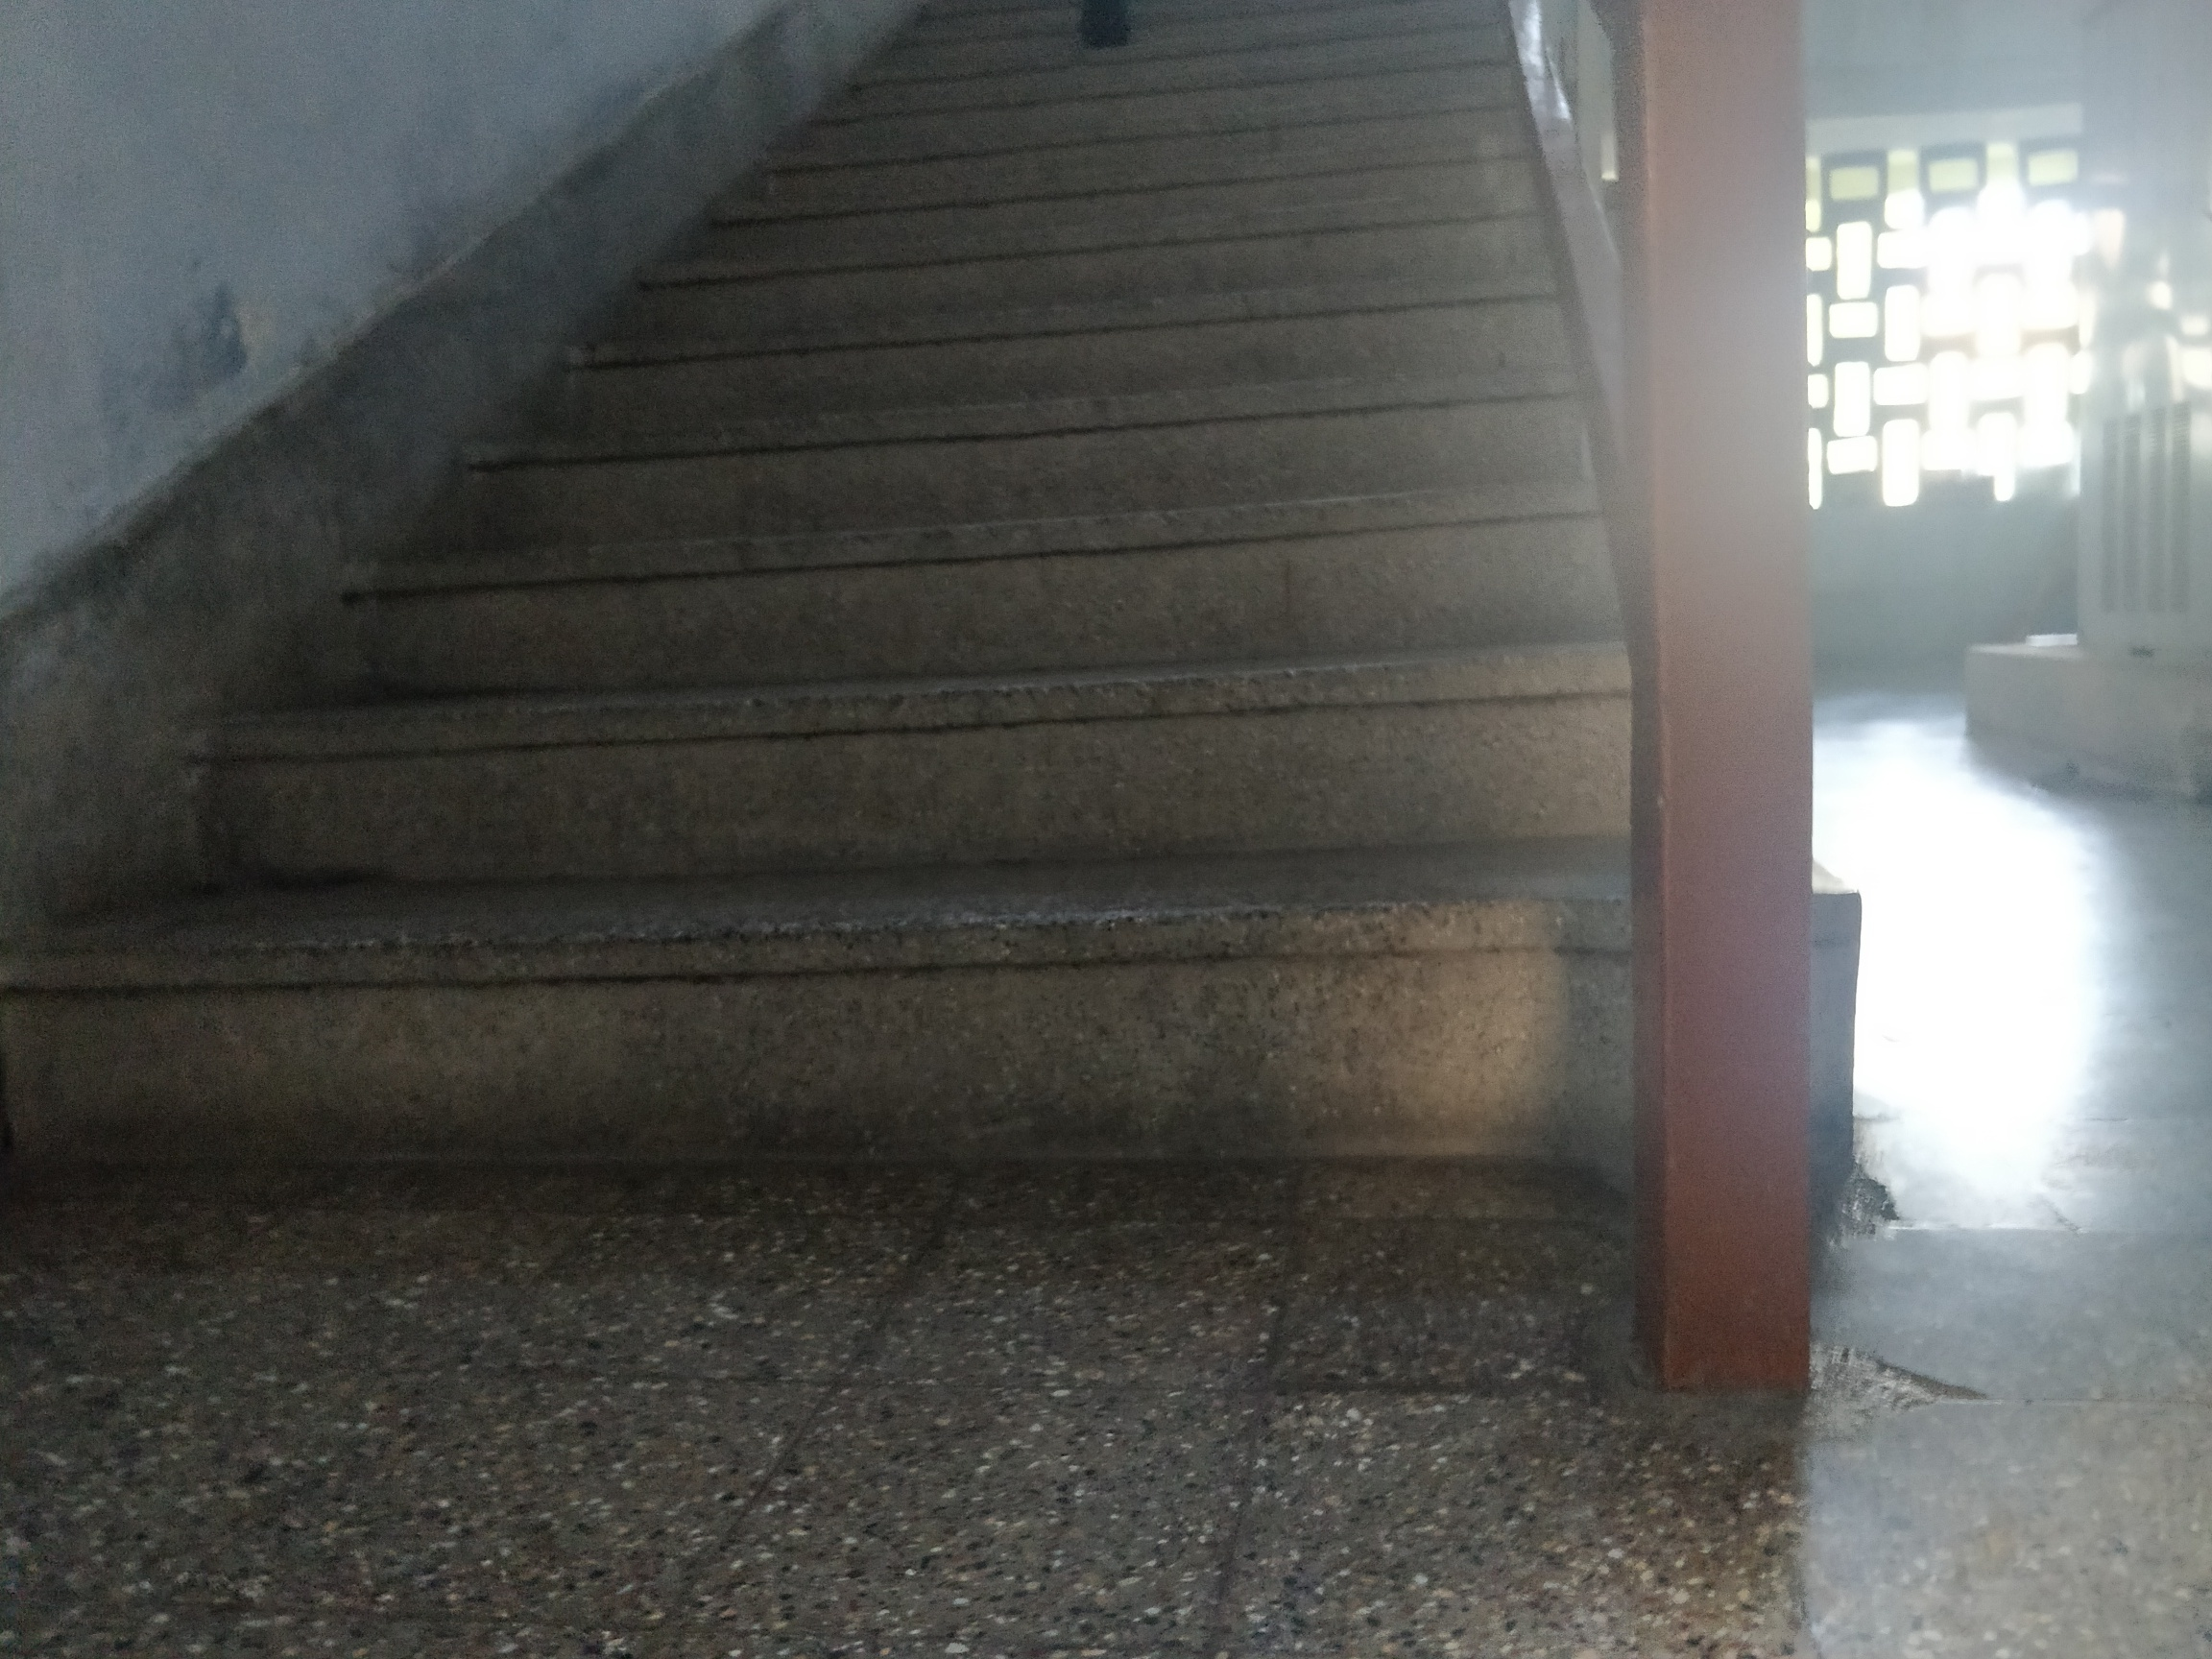stairs_up: (118, 2, 1615, 1260)
